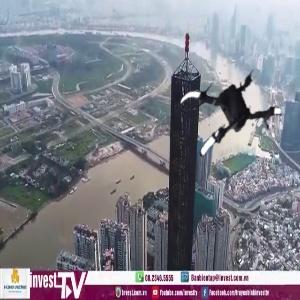drone: (178, 55, 293, 170)
